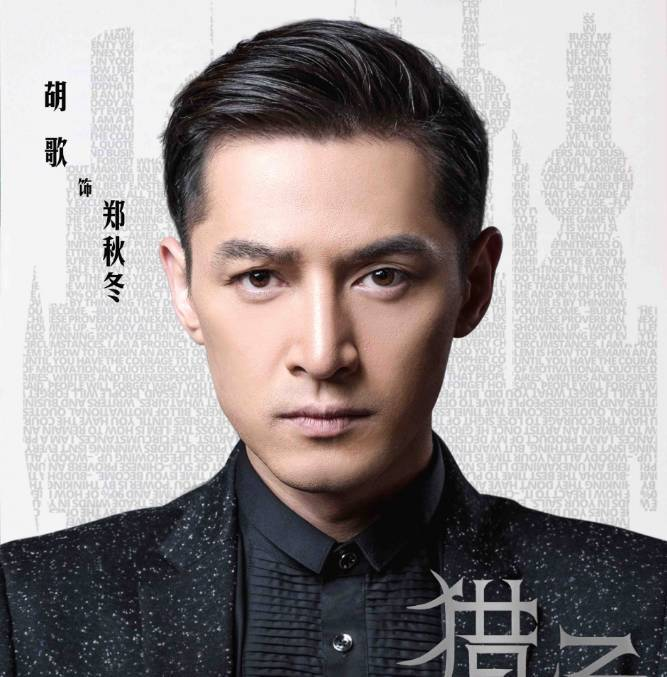unmask: (203, 139, 454, 489)
